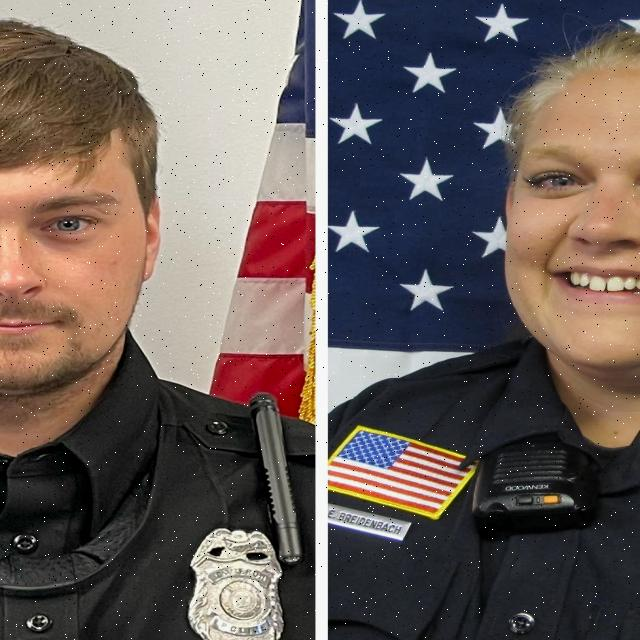police: (0, 9, 321, 640), (325, 21, 640, 640)
